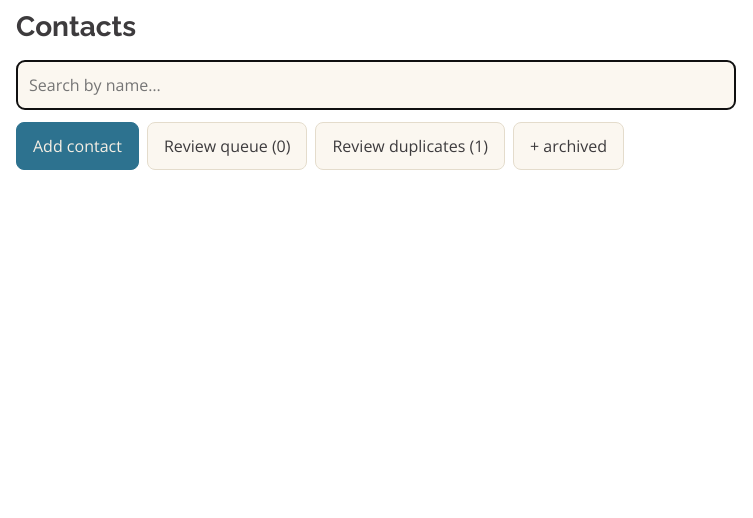
Test: a pair's actions follow whether the row carries the decision › shows a ridden household address rather than 'No email' (067)
The width and height of the screenshot is (753, 518).
Click the button "Review duplicates (1)" at (410, 146), box [316, 122, 505, 170]
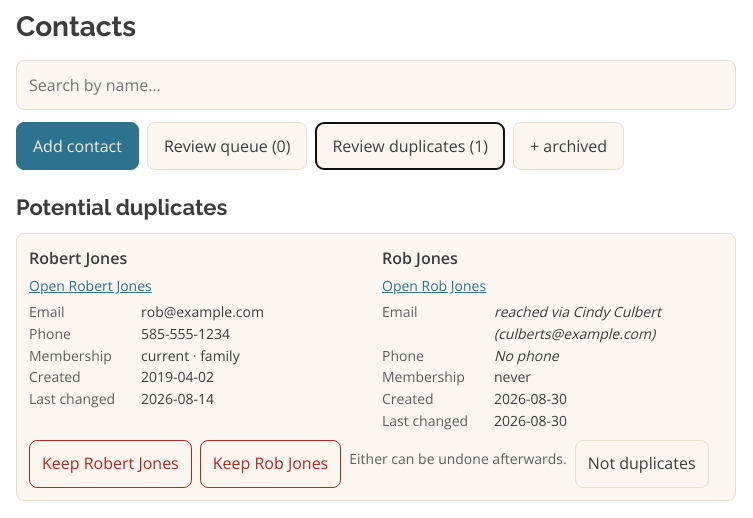
expect the text "reached via Cindy Culbert (culberts@example.com)" is shown: met, box [494, 302, 661, 343]
